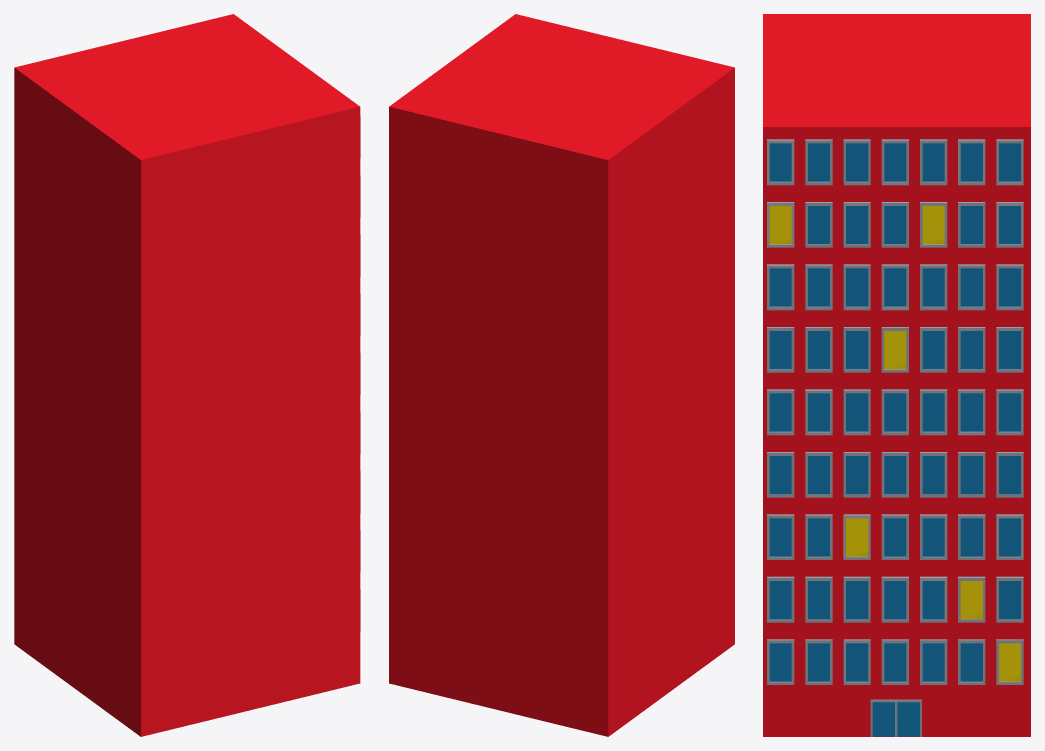
The model's file is tall_building.glb.
3 views of the same model, side by side, from view 1: azimuth 30°, elevation 25°; view 2: azimuth 150°, elevation 25°; view 3: azimuth 270°, elevation 25° (orthographic). The views are drawn at different scales.
Visible parts, largest first — view 1: TallBuilding; view 2: TallBuilding; view 3: TallBuilding.
Part boxes in pixels (x1=…): TallBuilding: x1=14, y1=14, x2=360, y2=736; TallBuilding: x1=389, y1=14, x2=734, y2=736; TallBuilding: x1=763, y1=14, x2=1030, y2=736.
Bounding box in the file's own units: 19.82 × 49.3 × 19.62.
Materials: 4 (4 with a texture image).
